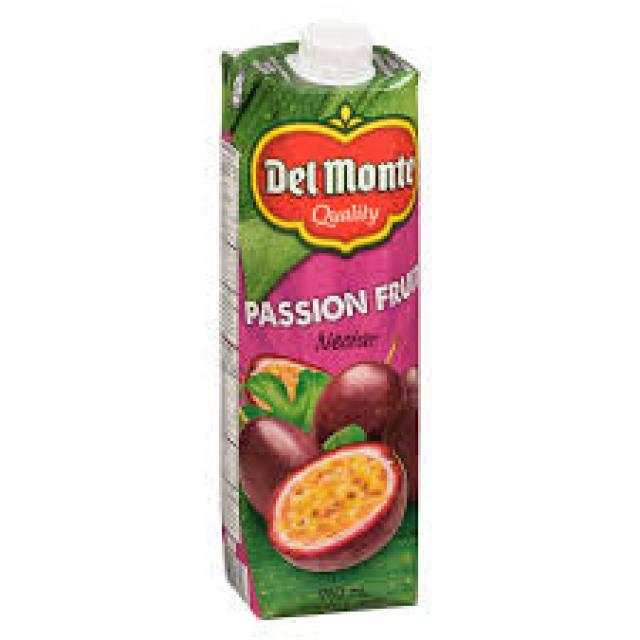non_white_jug: (199, 11, 441, 618)
